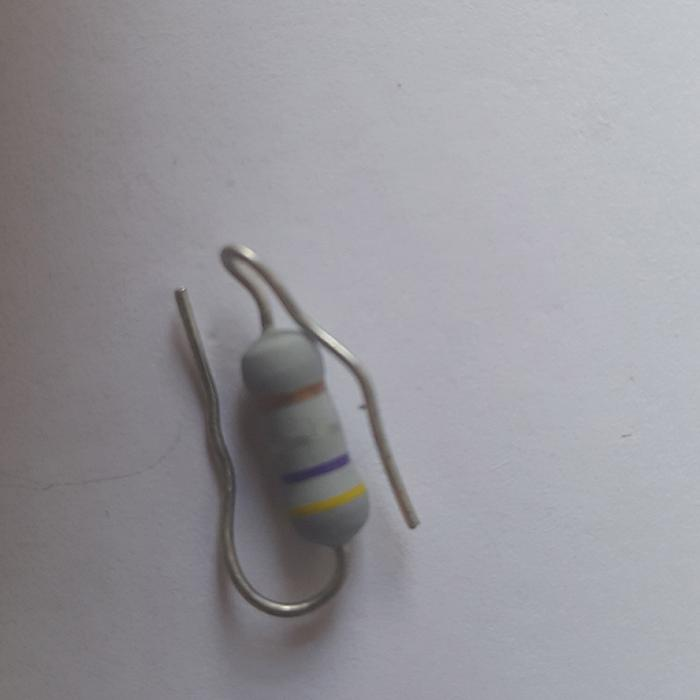resistor: (239, 329, 372, 547)
